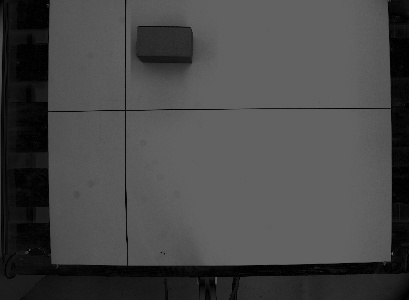b2: (133, 23, 196, 64)
